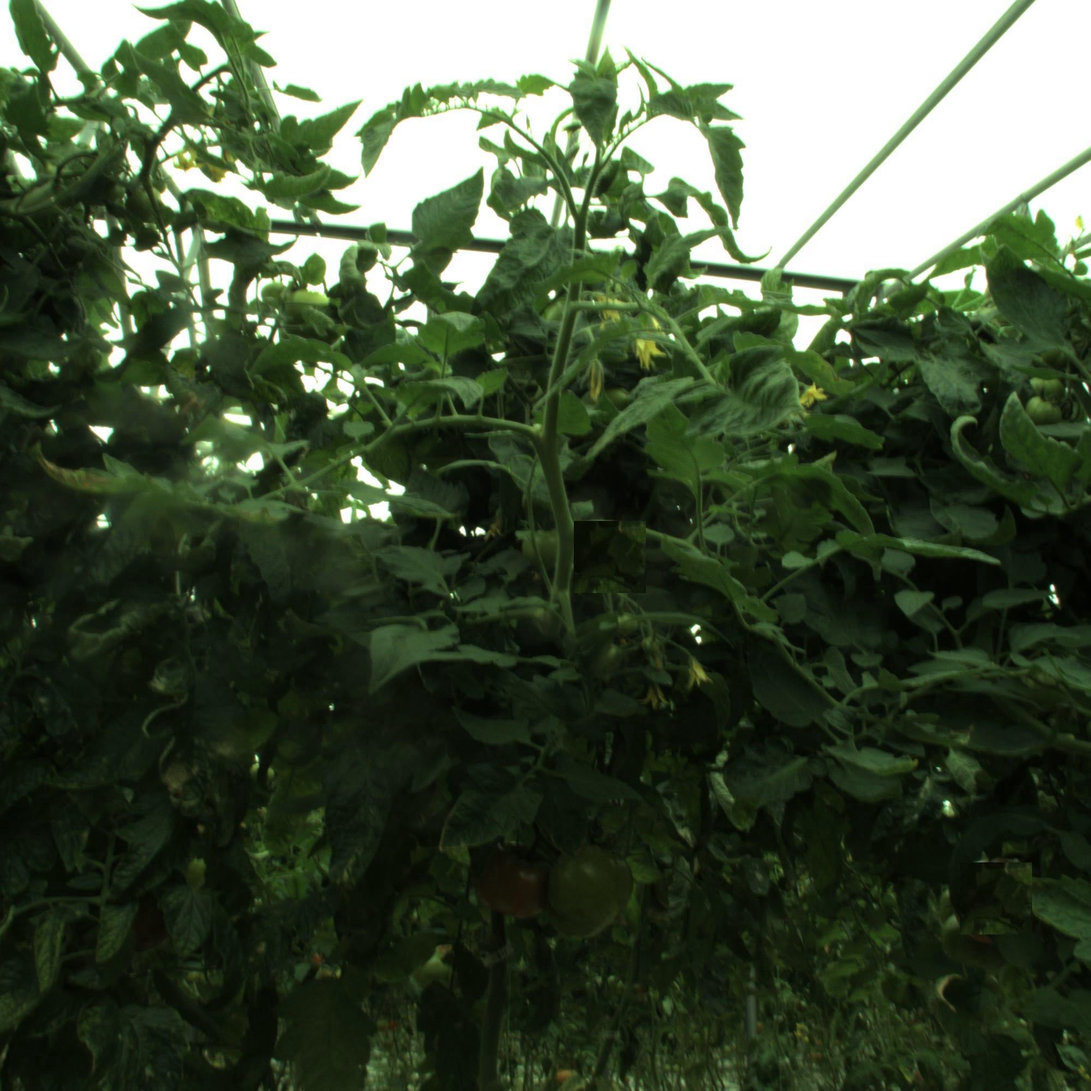semi-ripe: (473, 836, 554, 917)
unripe: (541, 841, 633, 933)
